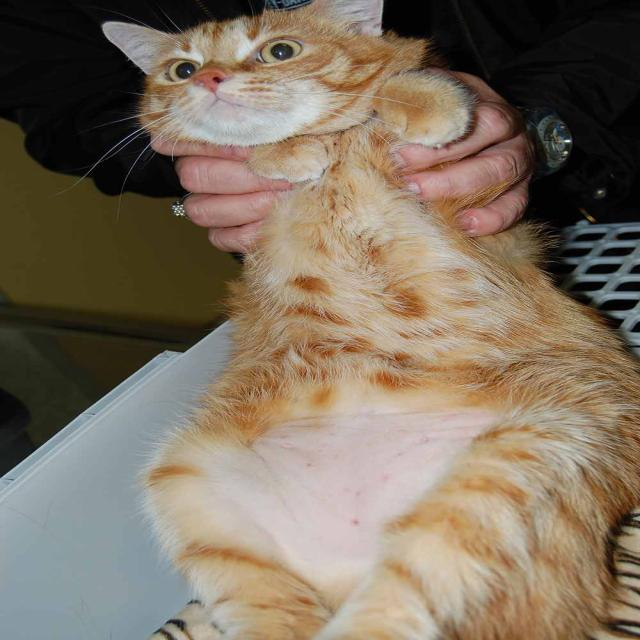cat-hairloss: (292, 421, 433, 532)
